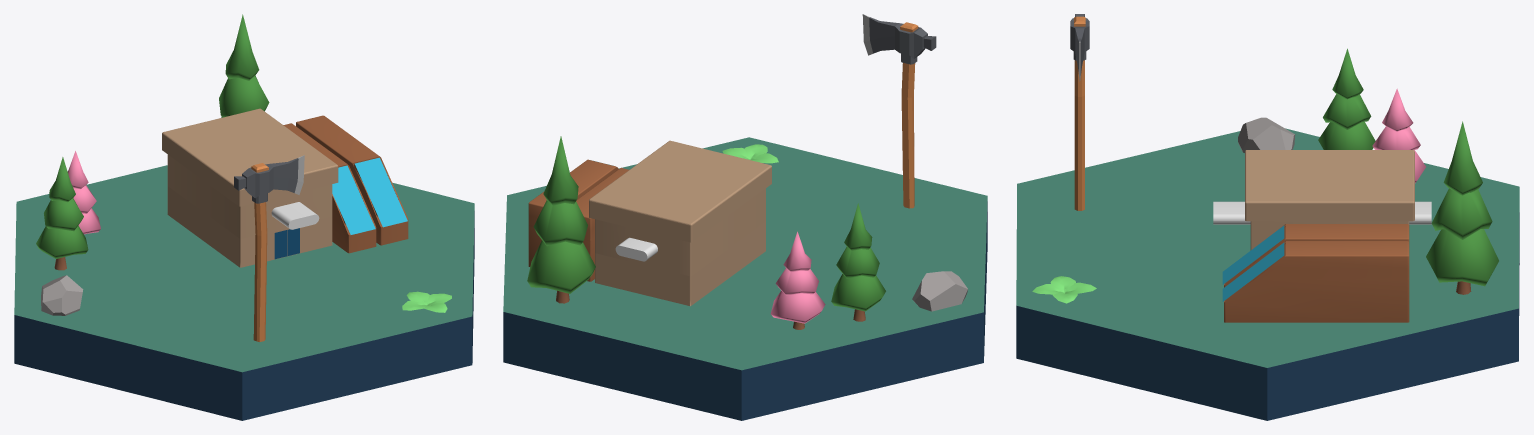
File: Macro - Factory lvl 1.fbx
The picture shows the model from 3 angles, left to right: view 1: azimuth 30°, elevation 25°; view 2: azimuth 150°, elevation 25°; view 3: azimuth 270°, elevation 25°; orthographic projection. The views are drawn at different scales.
Parts seen in each view (by area): view 1: Cylinder.155, Cube.074, axe v:130 f:129, Tree_Spruce_tiny_01.001, Cube.035, Tree_Spruce_tiny_01.002, Plane.086, Cube.069, Plane.087, Rock Type2 04 mesh.001, Tree_Spruce_tiny_01.003, Cutter.014 (+1 smaller); view 2: Cylinder.155, Cube.074, Tree_Spruce_tiny_01.002, axe v:130 f:129, Tree_Spruce_tiny_01.001, Tree_Spruce_tiny_01.003, Cube.035, Rock Type2 04 mesh.001, Cube.069, Cutter.014, Plane.011; view 3: Cylinder.155, Cube.074, Cube.035, Tree_Spruce_tiny_01.002, Tree_Spruce_tiny_01.001, axe v:130 f:129, Cube.069, Tree_Spruce_tiny_01.003, Rock Type2 04 mesh.001, Cutter.014, Plane.011, Plane.087 (+1 smaller).
Boxes of the visible parts, x1=… form: Cylinder.155: x1=14, y1=165, x2=474, y2=420; Cube.074: x1=162, y1=108, x2=338, y2=267; axe v:130 f:129: x1=234, y1=155, x2=304, y2=341; Tree_Spruce_tiny_01.001: x1=36, y1=157, x2=88, y2=270; Cube.035: x1=296, y1=115, x2=408, y2=245; Tree_Spruce_tiny_01.002: x1=219, y1=14, x2=269, y2=117; Plane.086: x1=355, y1=157, x2=407, y2=227; Cube.069: x1=283, y1=123, x2=376, y2=253; Plane.087: x1=332, y1=165, x2=375, y2=234; Rock Type2 04 mesh.001: x1=41, y1=275, x2=83, y2=315; Tree_Spruce_tiny_01.003: x1=67, y1=151, x2=100, y2=234; Cutter.014: x1=271, y1=202, x2=319, y2=229; Cylinder.155: x1=503, y1=137, x2=987, y2=420; Cube.074: x1=589, y1=140, x2=771, y2=306; Tree_Spruce_tiny_01.002: x1=527, y1=136, x2=595, y2=303; axe v:130 f:129: x1=862, y1=14, x2=936, y2=208; Tree_Spruce_tiny_01.001: x1=831, y1=203, x2=885, y2=321; Tree_Spruce_tiny_01.003: x1=770, y1=231, x2=825, y2=329; Cube.035: x1=528, y1=159, x2=618, y2=266; Rock Type2 04 mesh.001: x1=912, y1=271, x2=967, y2=311; Cube.069: x1=576, y1=167, x2=629, y2=281; Cutter.014: x1=615, y1=237, x2=657, y2=261; Plane.011: x1=722, y1=144, x2=778, y2=163; Cylinder.155: x1=1016, y1=128, x2=1519, y2=420; Cube.074: x1=1245, y1=150, x2=1414, y2=250; Cube.035: x1=1224, y1=241, x2=1409, y2=322; Tree_Spruce_tiny_01.002: x1=1426, y1=121, x2=1498, y2=294; Tree_Spruce_tiny_01.001: x1=1318, y1=48, x2=1375, y2=149; axe v:130 f:129: x1=1070, y1=14, x2=1089, y2=210; Cube.069: x1=1224, y1=224, x2=1409, y2=287; Tree_Spruce_tiny_01.003: x1=1372, y1=88, x2=1425, y2=183; Rock Type2 04 mesh.001: x1=1238, y1=117, x2=1295, y2=152; Cutter.014: x1=1213, y1=201, x2=1431, y2=224; Plane.011: x1=1032, y1=276, x2=1096, y2=303; Plane.087: x1=1222, y1=225, x2=1284, y2=284.
Size of the model in its own units: 197 by 91.66 by 172.
